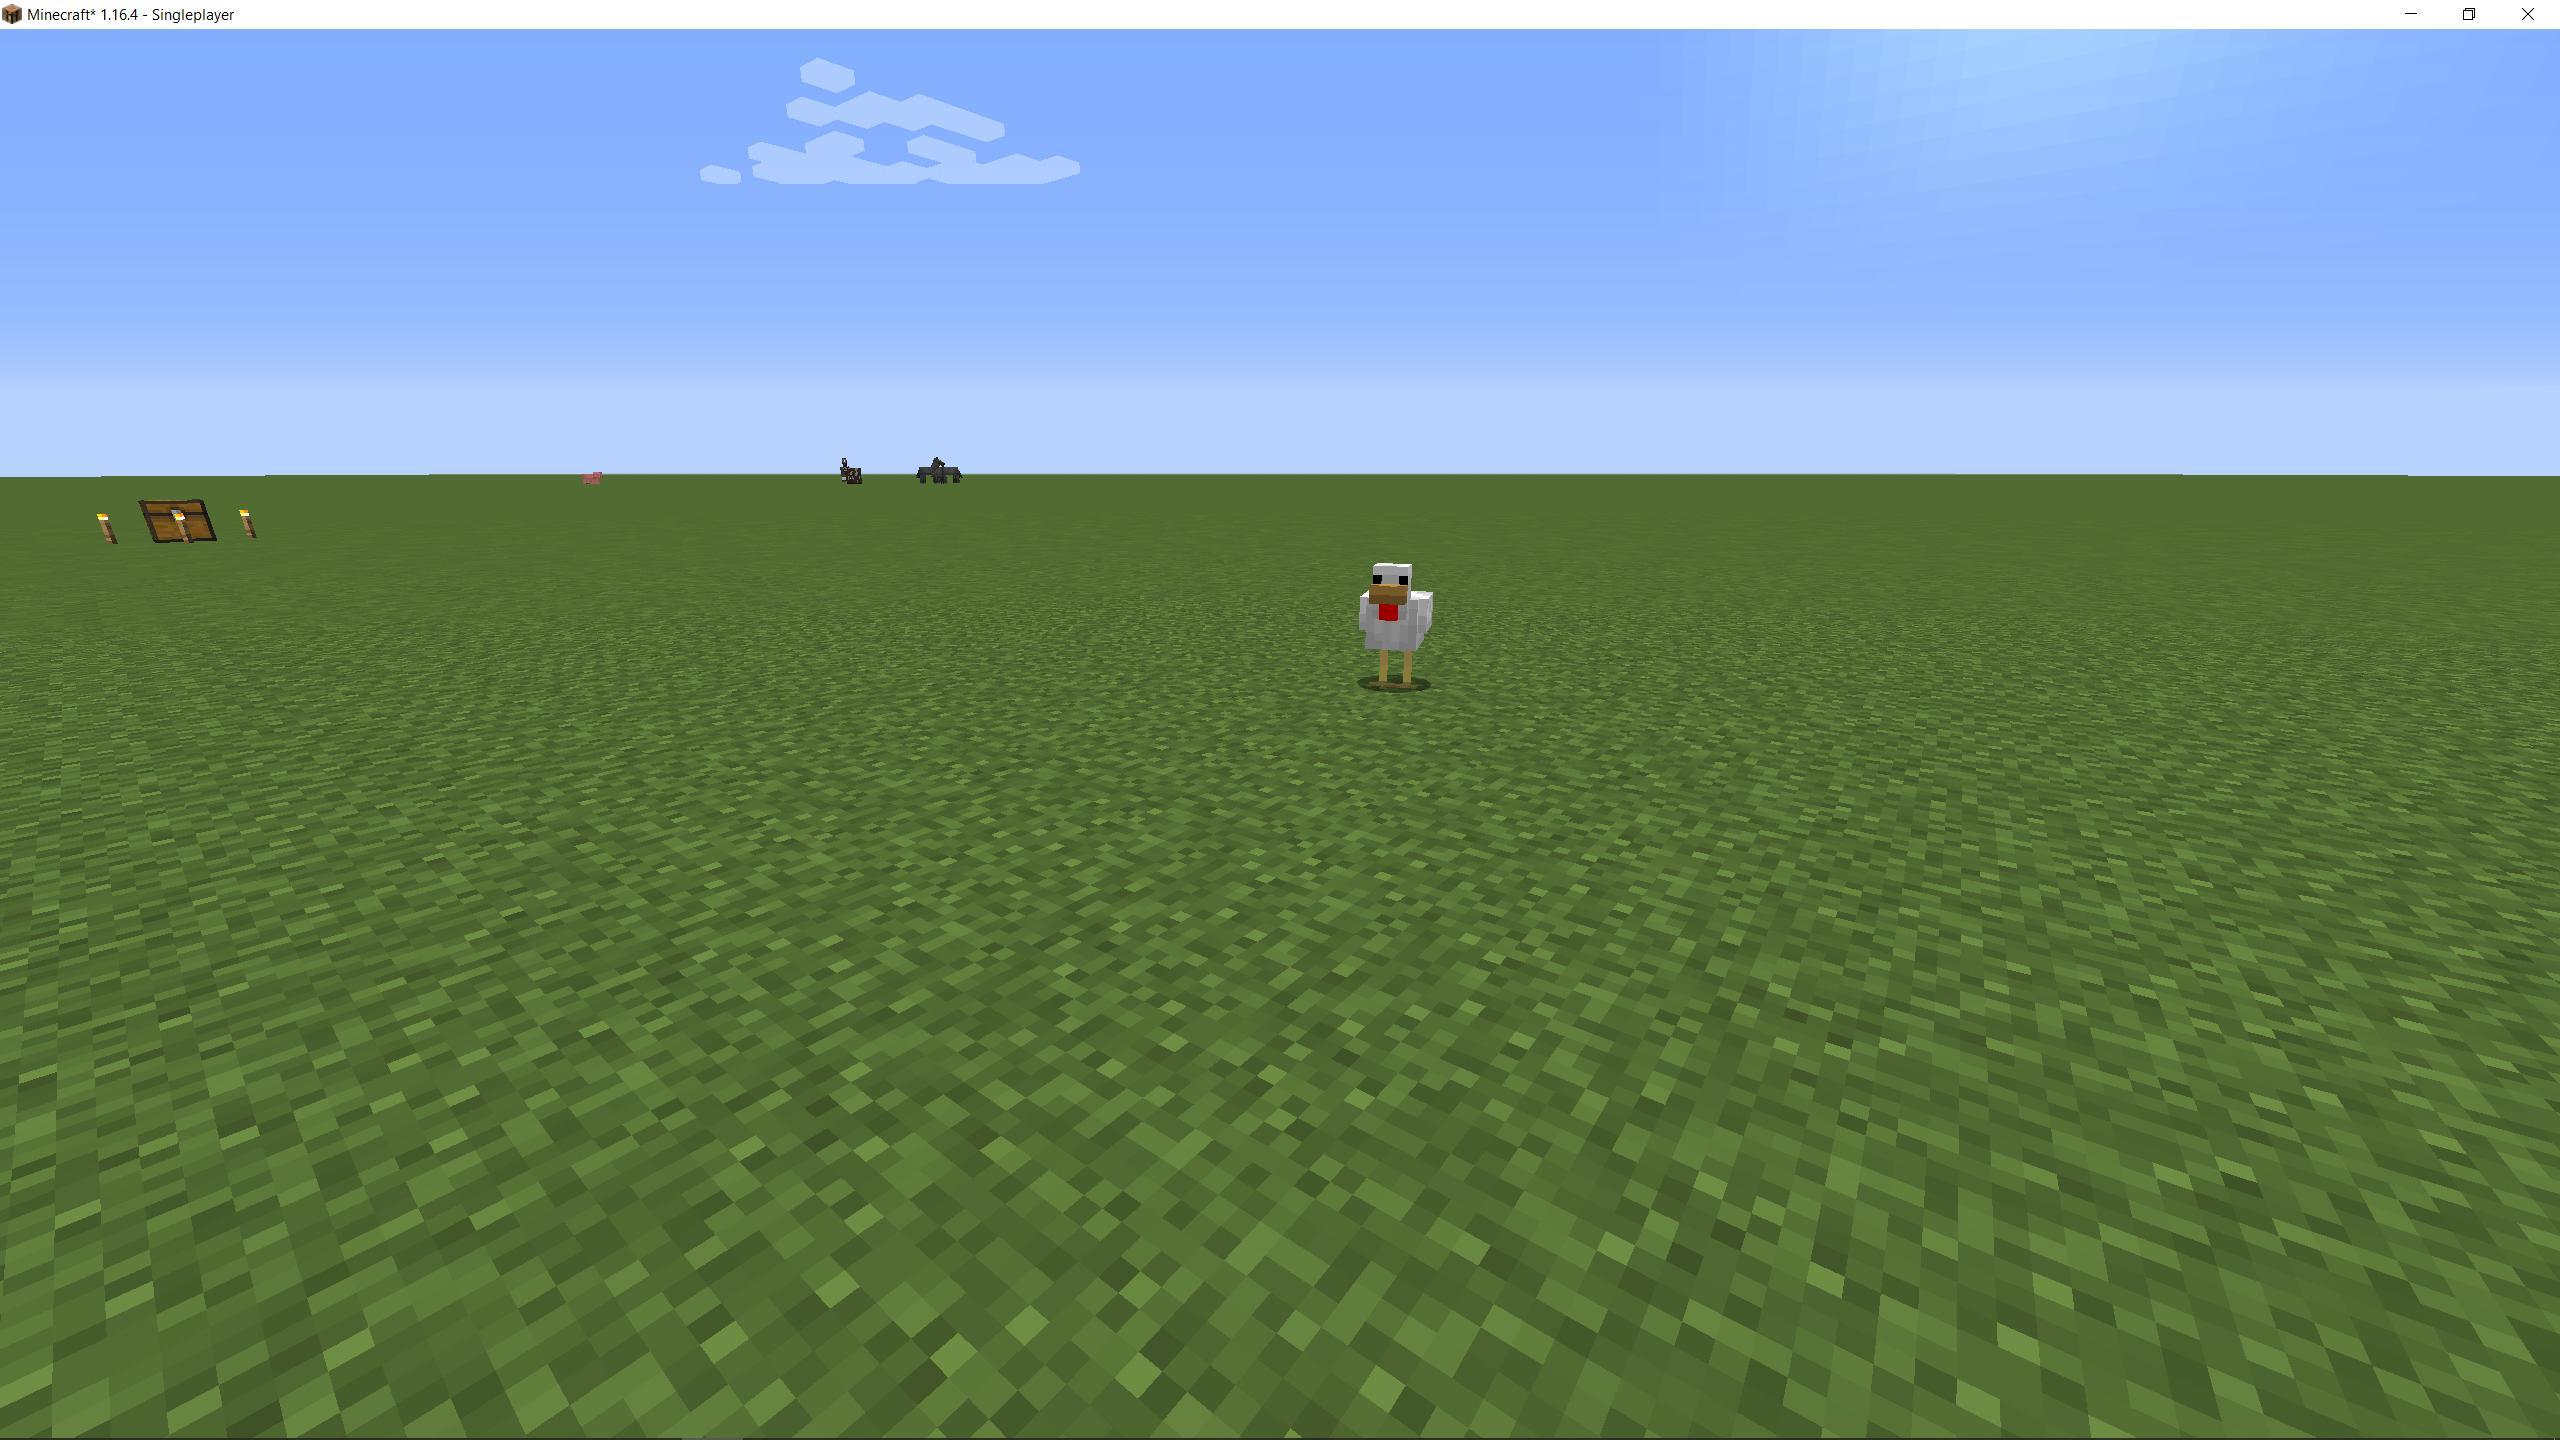chicken: (1350, 556, 1440, 698)
